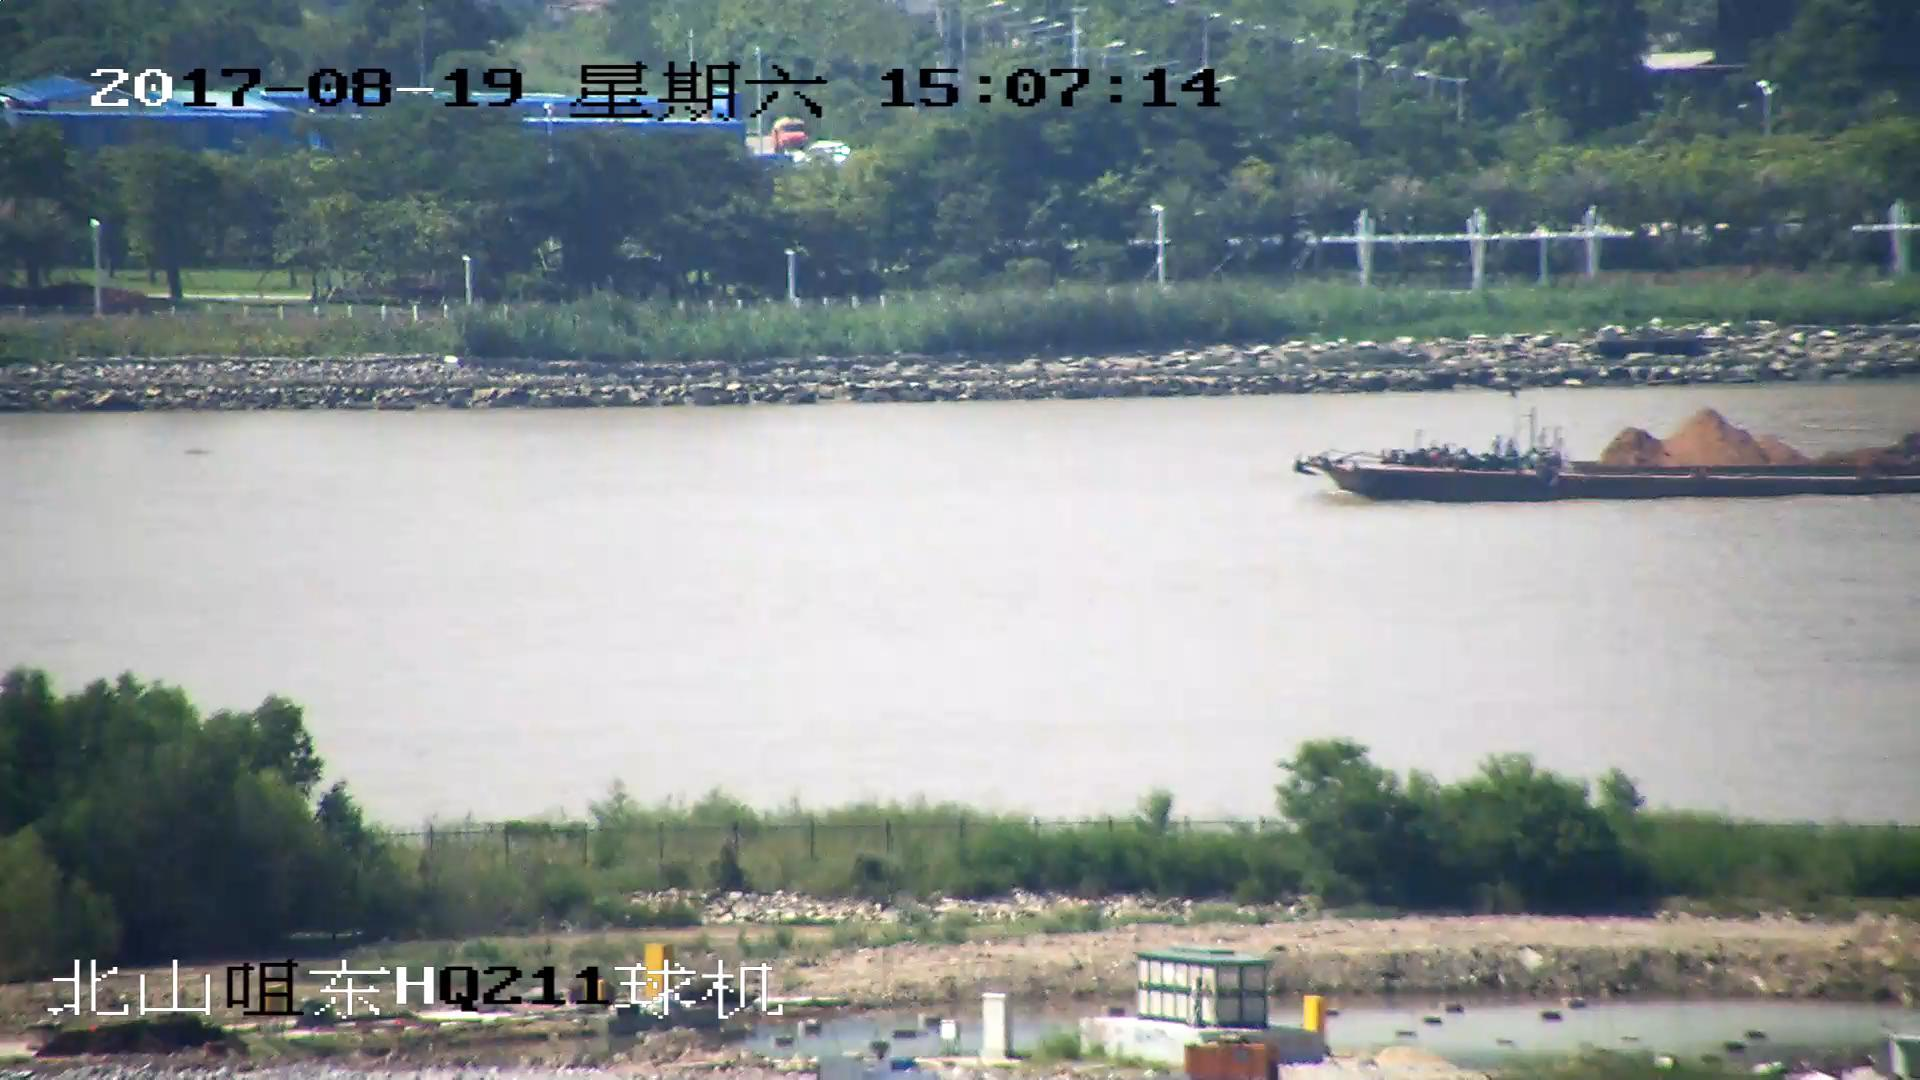Ship: (1292, 411, 1920, 506)
